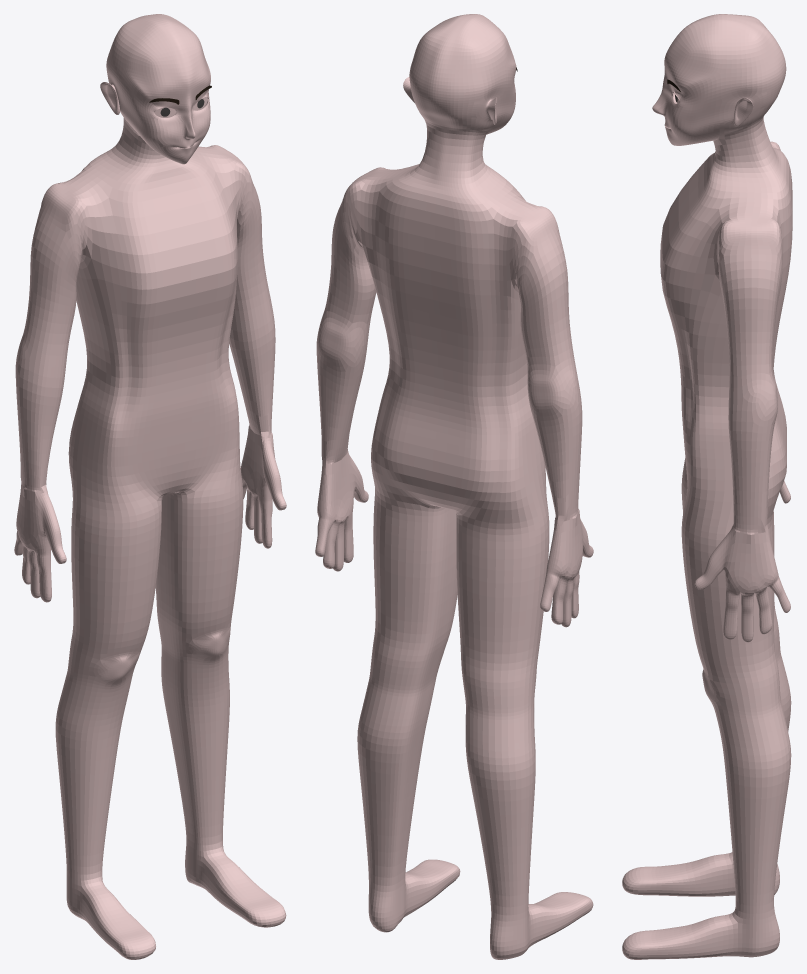
Rendered from NPC.fbx.
3 views of the same model, side by side, from view 1: azimuth 30°, elevation 25°; view 2: azimuth 150°, elevation 25°; view 3: azimuth 270°, elevation 25° (orthographic). The views are drawn at different scales.
Visible parts, largest first — view 1: Body; view 2: Body; view 3: Body.
Boxes of the visible parts, <box> form: Body: <box>14,14,286,959</box>; Body: <box>315,14,593,959</box>; Body: <box>622,14,792,959</box>.
Bounding box in the file's own units: 54.14 × 182 × 30.96.
